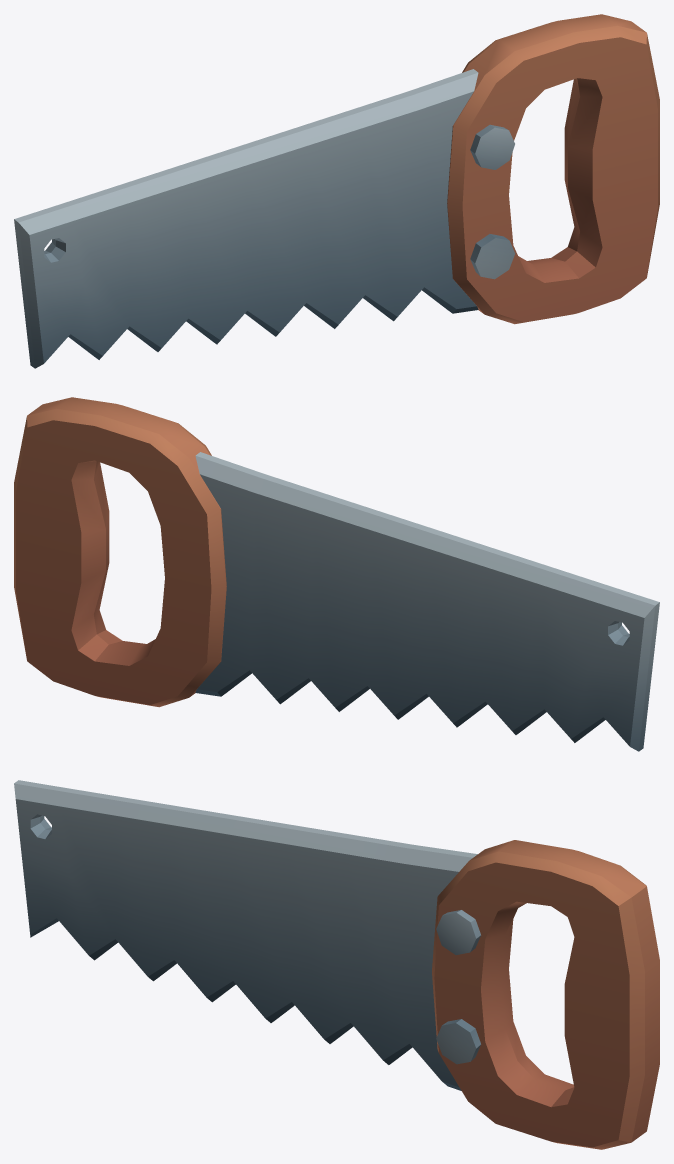
The model's file is saw.fbx.
3 renders of one model, top to bottom at view 1: azimuth 30°, elevation 25°; view 2: azimuth 150°, elevation 25°; view 3: azimuth 330°, elevation 25°, orthographic.
Parts seen in each view (by area): view 1: saw; view 2: saw; view 3: saw.
Boxes of the visible parts, <box> form: saw: <box>14,14,659,368</box>; saw: <box>14,397,659,751</box>; saw: <box>14,780,659,1149</box>.
Bounding box in the file's own units: 135 × 57.11 × 12.9.
